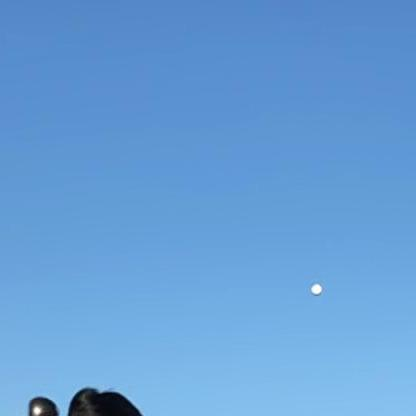golfball: (307, 279, 322, 294)
